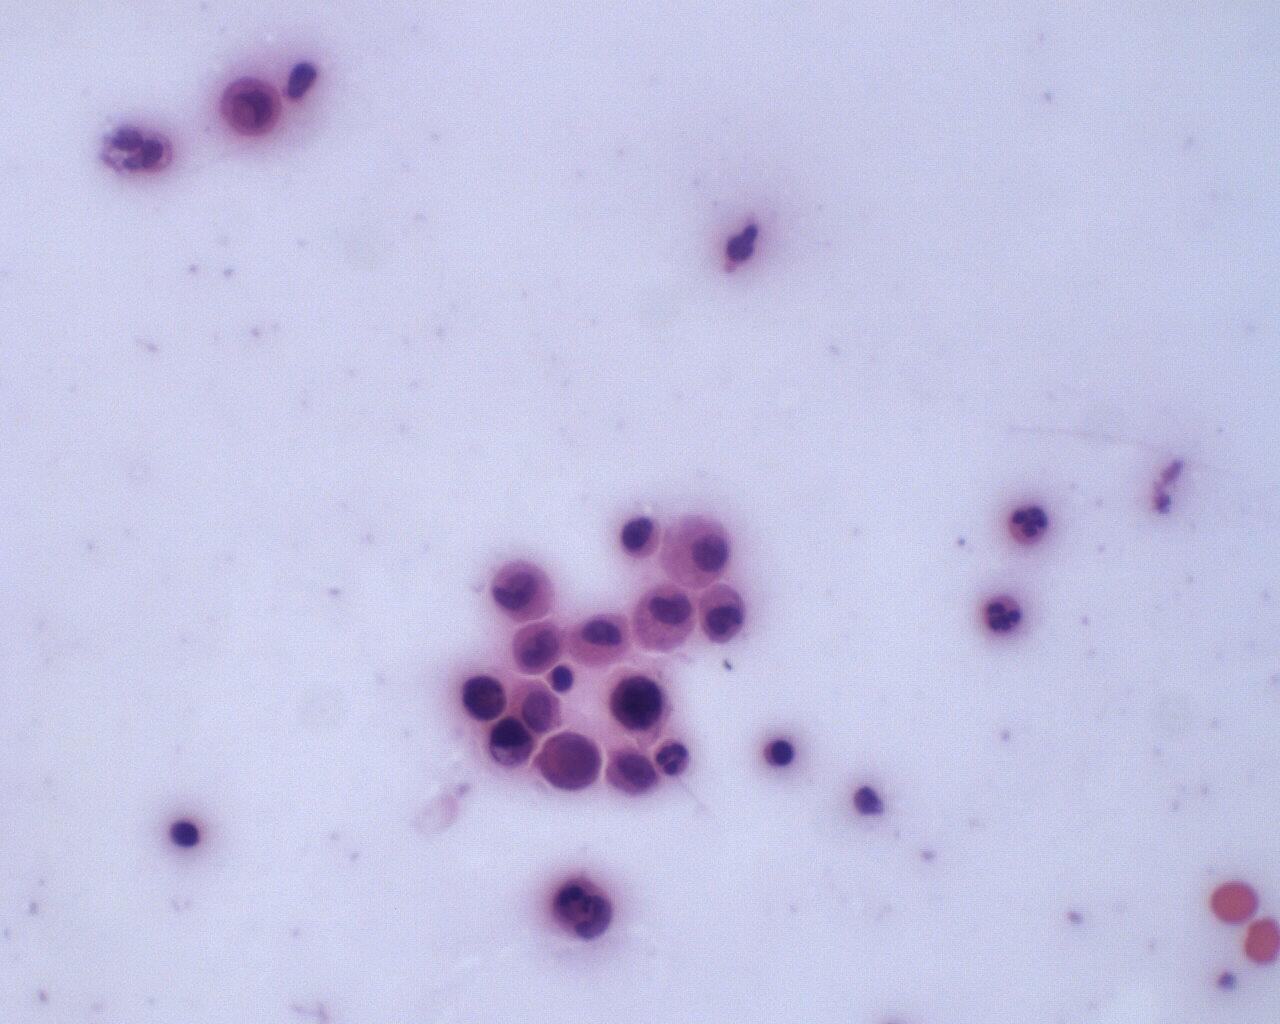ab: (488, 554, 561, 628), (539, 729, 603, 795), (607, 671, 671, 730), (602, 740, 661, 795), (456, 668, 510, 725)
lymph: (166, 812, 205, 856), (763, 734, 797, 773)
meso: (657, 513, 738, 590)
neutro: (981, 590, 1030, 638), (1007, 502, 1055, 550), (650, 738, 690, 781)
